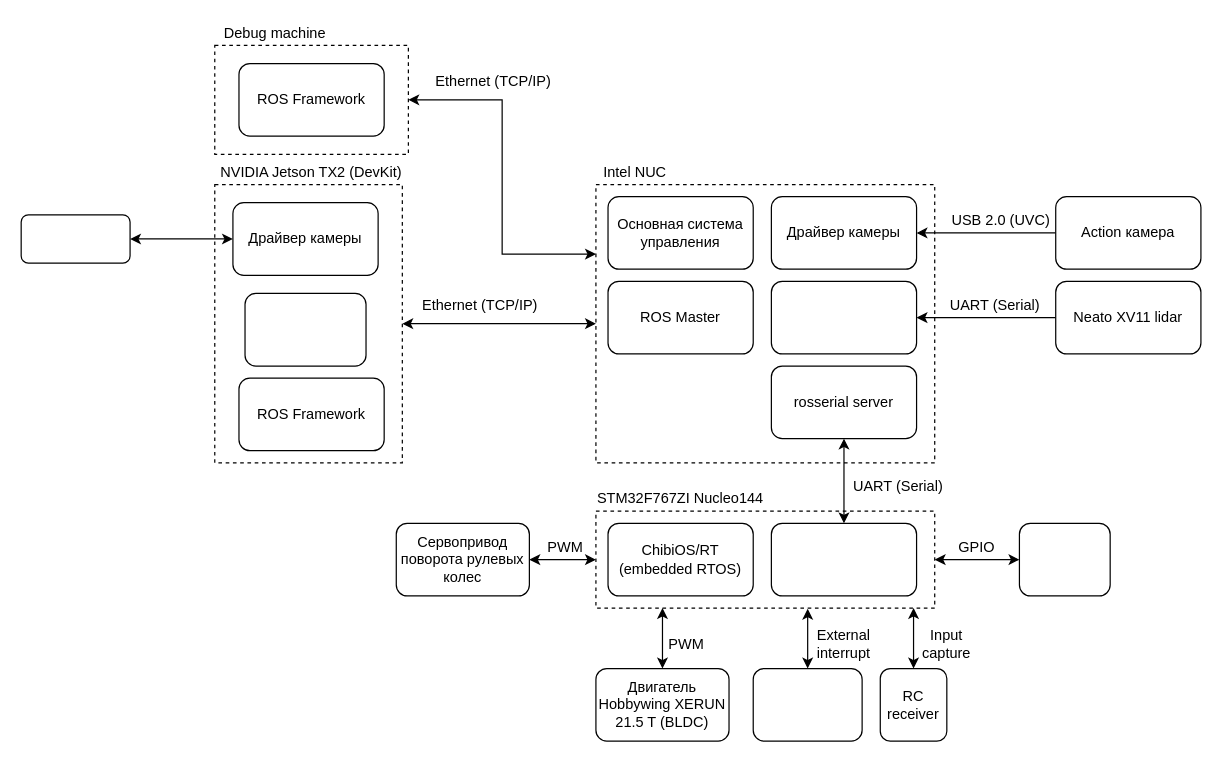
This 1222x762 diagram has some shape labels left out. Here are the shapes that lost their labels. From the top down, the box of each, then its label:
(20, 214, 130, 263): Web камера
(244, 292, 366, 366): Система распознавания знаков (Unet + LSVM)
(770, 280, 917, 354): Драйвер лидара
(770, 522, 917, 596): rosserial client (embedded library)
(1018, 522, 1110, 596): Кнопка включения
(752, 667, 862, 741): Одометрия (три датчика Холла)
